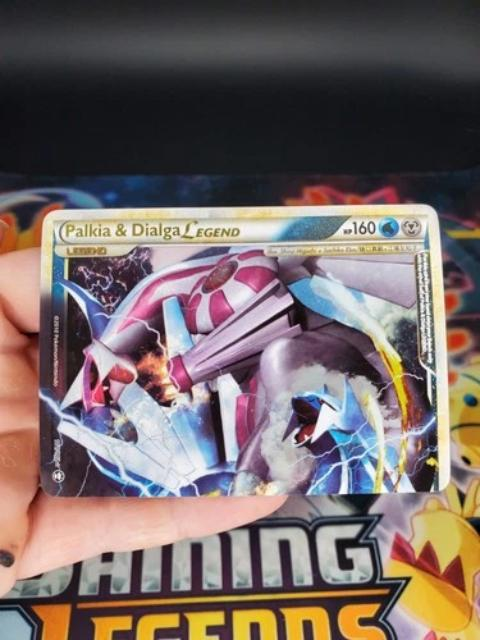Card: (35, 201, 453, 503)
Name: (55, 218, 247, 244)
